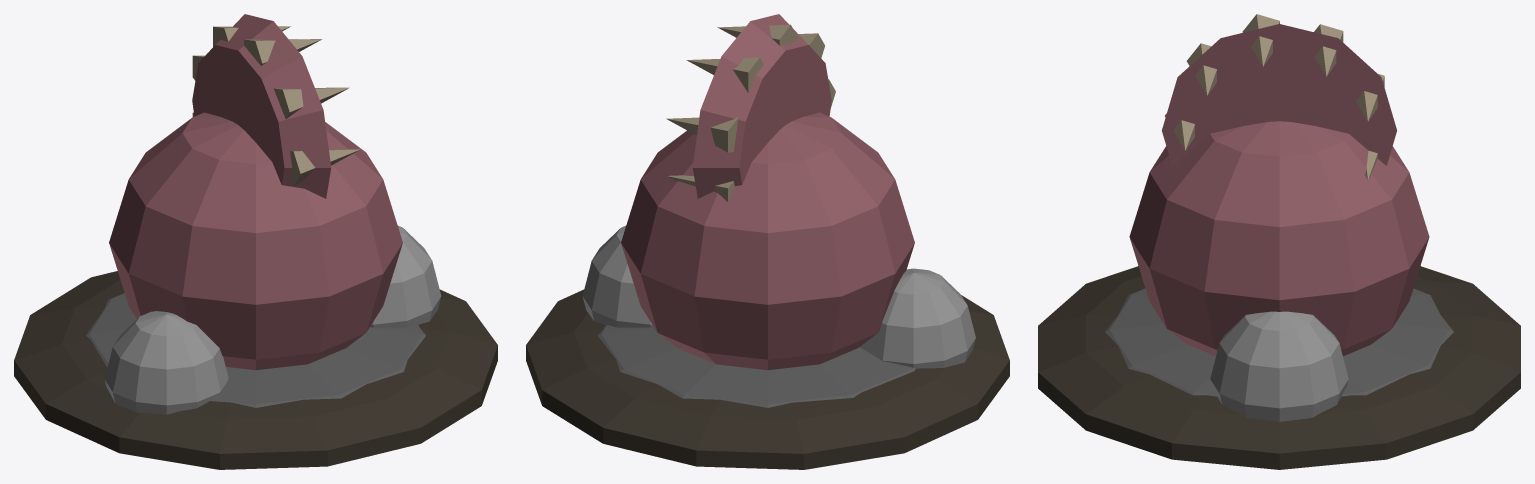
The model's file is bl_gut.glb.
3 views of the same model, side by side, from view 1: azimuth 30°, elevation 25°; view 2: azimuth 150°, elevation 25°; view 3: azimuth 270°, elevation 25° (orthographic). The views are drawn at different scales.
Visible parts, largest first — view 1: body; view 2: body; view 3: body.
Part boxes in pixels (x1,y1,x2,y2): body: [14, 14, 497, 469]; body: [526, 14, 1009, 469]; body: [1038, 14, 1520, 469].
Size of the model in its own units: 41.18 by 34.77 by 40.15.
